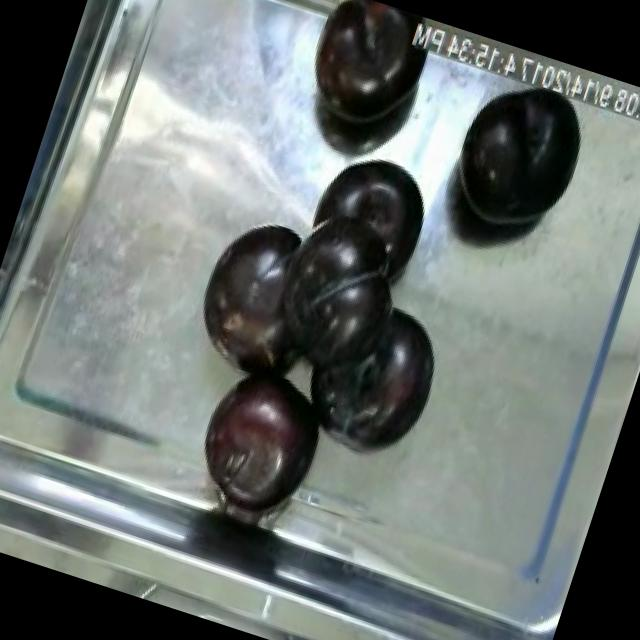Fruit: (429, 59, 604, 258), (296, 271, 468, 467), (178, 198, 334, 394), (182, 348, 345, 524), (286, 0, 440, 150)
